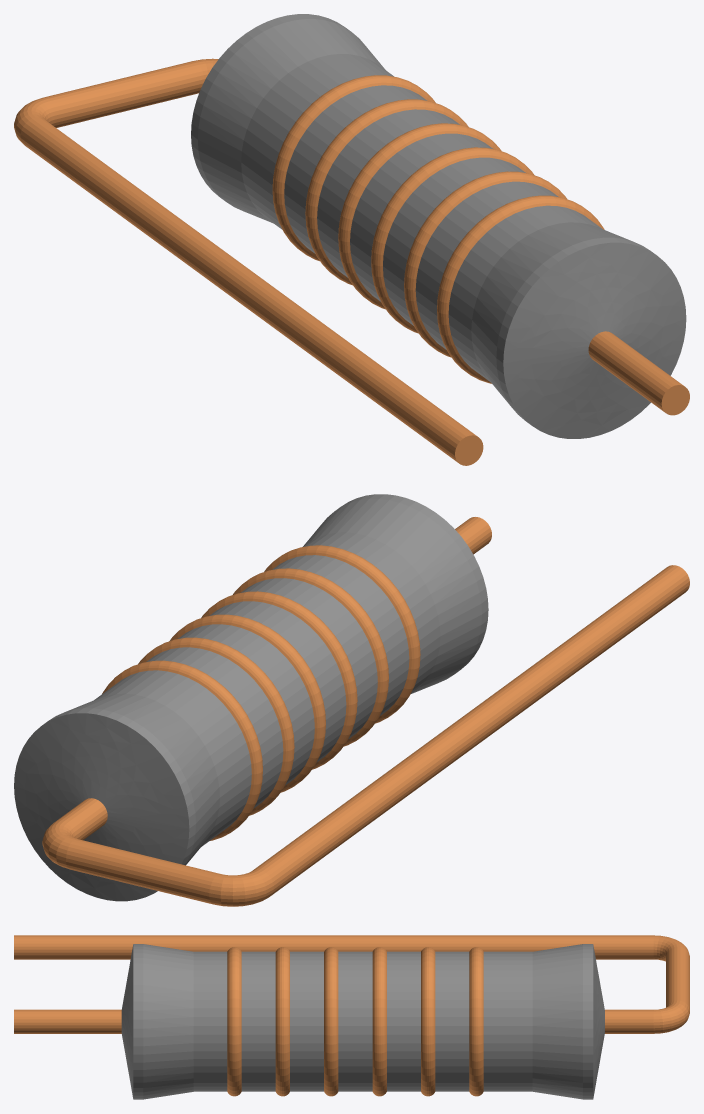
Rendered from L_Axial_L14.0mm_D4.5mm_P5.08mm_Vertical_Fastron_LACC.glb.
The picture shows the model from 3 angles, top to bottom: view 1: azimuth 30°, elevation 25°; view 2: azimuth 150°, elevation 25°; view 3: azimuth 270°, elevation 25°; orthographic projection. The views are drawn at different scales.
Visible parts, largest first — view 1: Shape_IndexedFaceSet.002, Shape_IndexedFaceSet.025, Shape_IndexedFaceSet.018, Shape_IndexedFaceSet.017, Shape_IndexedFaceSet.004, Shape_IndexedFaceSet.005, Shape_IndexedFaceSet.023, Shape_IndexedFaceSet.015, Shape_IndexedFaceSet.011, Shape_IndexedFaceSet.013, Shape_IndexedFaceSet.007, Shape_IndexedFaceSet.009 (+12 smaller); view 2: Shape_IndexedFaceSet.020, Shape_IndexedFaceSet.025, Shape_IndexedFaceSet.004, Shape_IndexedFaceSet.017, Shape_IndexedFaceSet.018, Shape_IndexedFaceSet.023, Shape_IndexedFaceSet.009, Shape_IndexedFaceSet.011, Shape_IndexedFaceSet.015, Shape_IndexedFaceSet.013, Shape_IndexedFaceSet.007, Shape_IndexedFaceSet.005 (+12 smaller); view 3: Shape_IndexedFaceSet.025, Shape_IndexedFaceSet.004, Shape_IndexedFaceSet.018, Shape_IndexedFaceSet.017, Shape_IndexedFaceSet.011, Shape_IndexedFaceSet.007, Shape_IndexedFaceSet.015, Shape_IndexedFaceSet.005, Shape_IndexedFaceSet.009, Shape_IndexedFaceSet.013, Shape_IndexedFaceSet.001, Shape_IndexedFaceSet.010 (+13 smaller).
Part boxes in pixels (x1=…): Shape_IndexedFaceSet.002: x1=503, y1=242, x2=686, y2=438; Shape_IndexedFaceSet.025: x1=20, y1=117, x2=477, y2=462; Shape_IndexedFaceSet.018: x1=197, y1=19, x2=385, y2=223; Shape_IndexedFaceSet.017: x1=241, y1=54, x2=393, y2=229; Shape_IndexedFaceSet.004: x1=471, y1=222, x2=632, y2=405; Shape_IndexedFaceSet.005: x1=448, y1=205, x2=601, y2=381; Shape_IndexedFaceSet.023: x1=44, y1=61, x2=204, y2=127; Shape_IndexedFaceSet.015: x1=284, y1=85, x2=427, y2=253; Shape_IndexedFaceSet.011: x1=350, y1=133, x2=492, y2=301; Shape_IndexedFaceSet.013: x1=317, y1=109, x2=459, y2=277; Shape_IndexedFaceSet.007: x1=415, y1=181, x2=558, y2=349; Shape_IndexedFaceSet.009: x1=383, y1=157, x2=525, y2=325; Shape_IndexedFaceSet.020: x1=14, y1=713, x2=189, y2=901; Shape_IndexedFaceSet.025: x1=253, y1=565, x2=689, y2=895; Shape_IndexedFaceSet.004: x1=303, y1=499, x2=481, y2=693; Shape_IndexedFaceSet.017: x1=94, y1=670, x2=251, y2=846; Shape_IndexedFaceSet.018: x1=66, y1=693, x2=219, y2=865; Shape_IndexedFaceSet.023: x1=66, y1=839, x2=219, y2=904; Shape_IndexedFaceSet.009: x1=241, y1=578, x2=377, y2=739; Shape_IndexedFaceSet.011: x1=209, y1=601, x2=346, y2=762; Shape_IndexedFaceSet.015: x1=146, y1=647, x2=283, y2=808; Shape_IndexedFaceSet.013: x1=178, y1=624, x2=314, y2=785; Shape_IndexedFaceSet.007: x1=272, y1=555, x2=409, y2=716; Shape_IndexedFaceSet.005: x1=304, y1=532, x2=440, y2=693; Shape_IndexedFaceSet.025: x1=14, y1=935, x2=653, y2=959; Shape_IndexedFaceSet.004: x1=143, y1=944, x2=193, y2=1099; Shape_IndexedFaceSet.018: x1=532, y1=944, x2=582, y2=1099; Shape_IndexedFaceSet.017: x1=483, y1=951, x2=532, y2=1091; Shape_IndexedFaceSet.011: x1=338, y1=951, x2=372, y2=1091; Shape_IndexedFaceSet.007: x1=241, y1=951, x2=275, y2=1091; Shape_IndexedFaceSet.015: x1=435, y1=951, x2=469, y2=1091; Shape_IndexedFaceSet.005: x1=193, y1=951, x2=227, y2=1091; Shape_IndexedFaceSet.009: x1=290, y1=951, x2=323, y2=1091; Shape_IndexedFaceSet.013: x1=387, y1=951, x2=420, y2=1091; Shape_IndexedFaceSet.001: x1=14, y1=1009, x2=121, y2=1033; Shape_IndexedFaceSet.010: x1=324, y1=947, x2=338, y2=1096.
Bounding box in the file's own units: 3.02 × 1.77 × 7.7.
